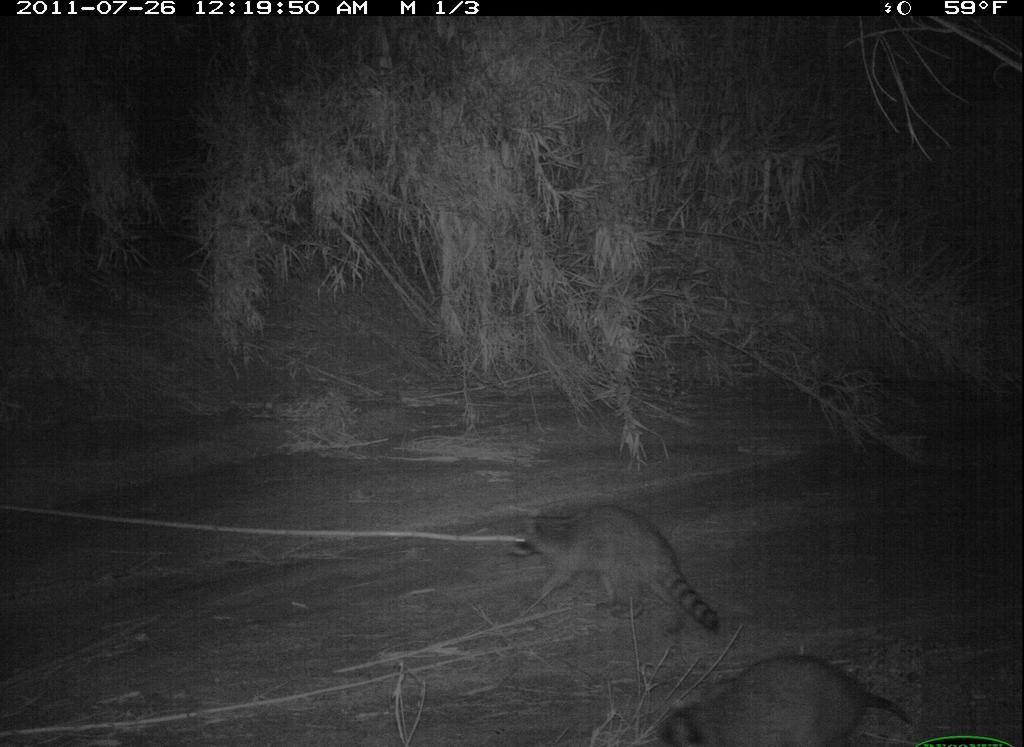raccoon: (506, 497, 730, 643), (639, 649, 917, 743)
